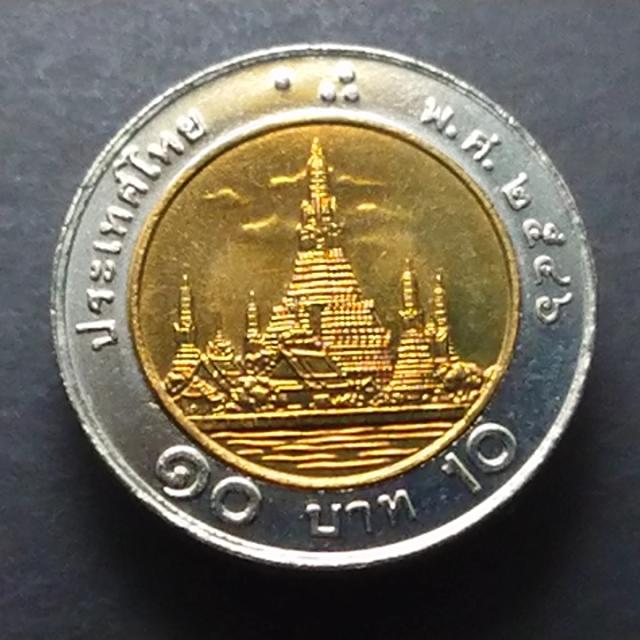10 Bath: (48, 41, 600, 573)
